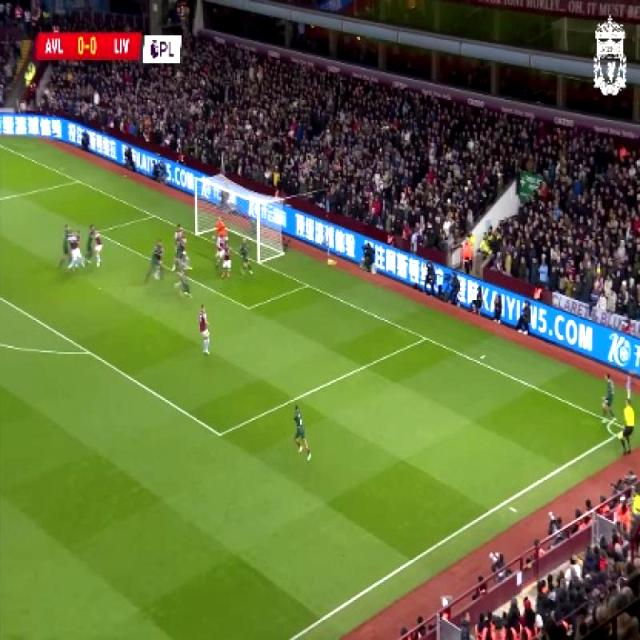bigarea_bottom_inner: (209, 420, 229, 446)
bigarea_bottom_outter: (416, 328, 432, 348)
bigarea_top_outter: (71, 172, 84, 188)
bottom_arc_area_intersection: (78, 340, 97, 363)
smallarea_bottom_inner: (238, 294, 257, 318)
smallarea_bottom_outter: (298, 276, 314, 292)
smallarea_top_inner: (90, 225, 105, 240)
smallarea_top_outter: (146, 206, 162, 224)
